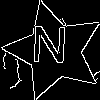N: (29, 25, 69, 73)
